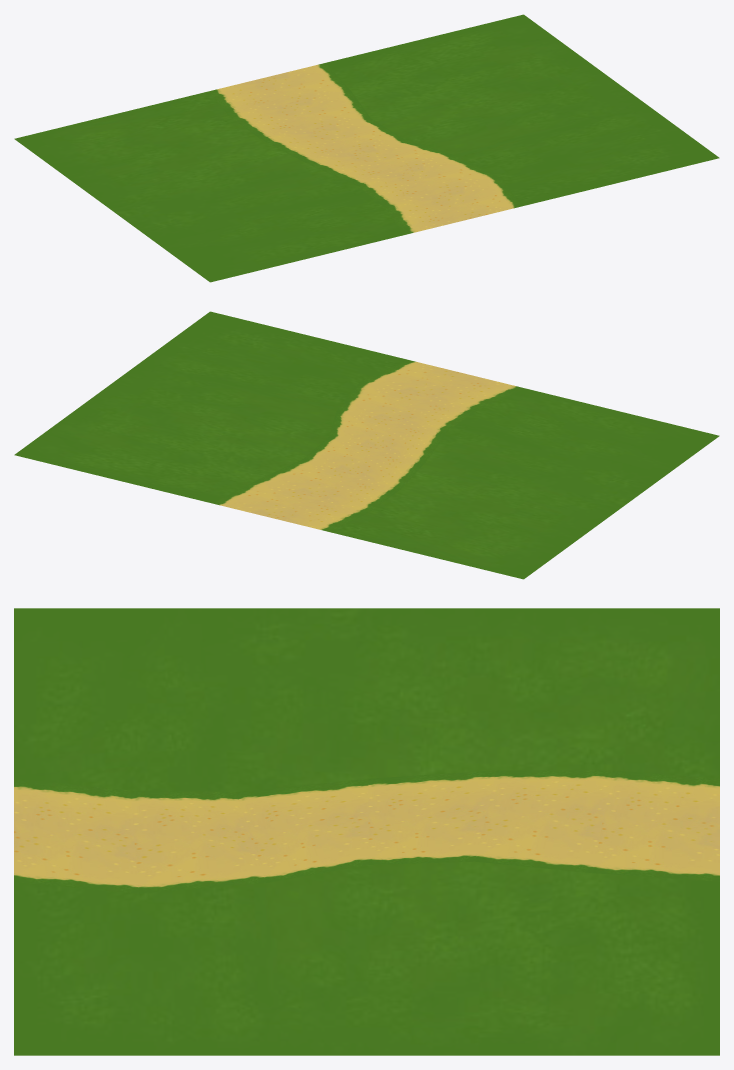
File: path1.dae
The picture shows the model from 3 angles, top to bottom: view 1: azimuth 30°, elevation 25°; view 2: azimuth 150°, elevation 25°; view 3: azimuth 270°, elevation 25°; orthographic projection. The views are drawn at different scales.
Visible parts, largest first — view 1: path1, path3, path6, path5, path2, path4; view 2: path1, path3, path6, path5, path2, path4; view 3: path1, path3, path6, path5, path2, path4.
Part boxes in pixels (bbox=[...]): path1: bbox=[179, 131, 719, 282]; path3: bbox=[112, 86, 639, 244]; path6: bbox=[14, 14, 564, 156]; path5: bbox=[39, 44, 598, 179]; path2: bbox=[159, 100, 683, 259]; path4: bbox=[70, 70, 620, 210]; path1: bbox=[174, 311, 719, 458]; path3: bbox=[111, 369, 667, 507]; path6: bbox=[14, 425, 548, 579]; path5: bbox=[55, 400, 579, 560]; path2: bbox=[131, 338, 688, 473]; path4: bbox=[90, 384, 620, 537]; path1: bbox=[14, 608, 144, 1055]; path3: bbox=[199, 608, 369, 1055]; path6: bbox=[572, 608, 719, 1055]; path5: bbox=[448, 608, 629, 1055]; path2: bbox=[125, 608, 299, 1055]; path4: bbox=[368, 608, 516, 1055].
Size of the model in its own units: 72 by 2e-06 by 48.
2 materials, 2 textured.
